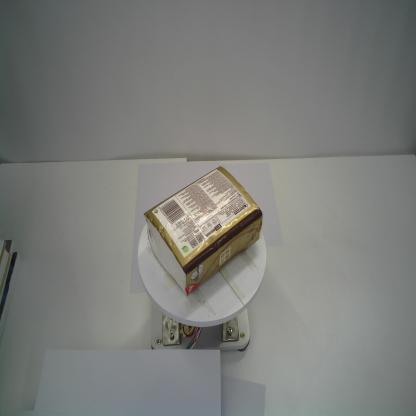Tissue: (142, 165, 263, 297)
